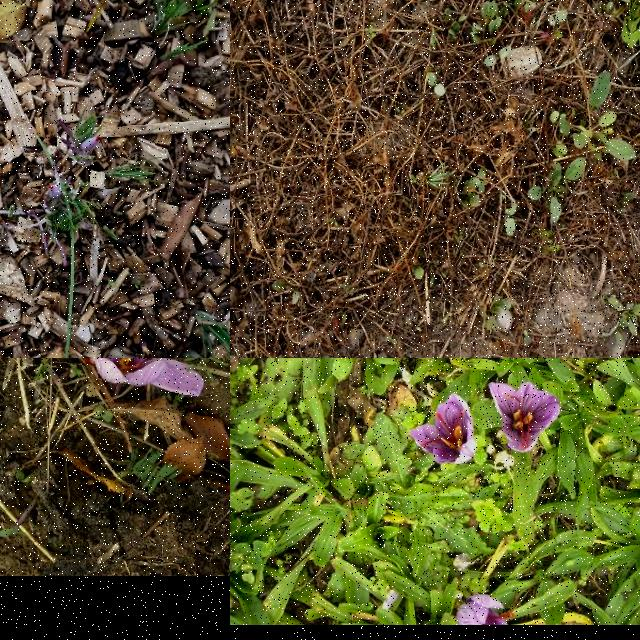flower: (490, 382, 562, 452), (409, 394, 476, 464), (89, 358, 206, 396), (457, 595, 515, 625), (78, 134, 102, 154)
